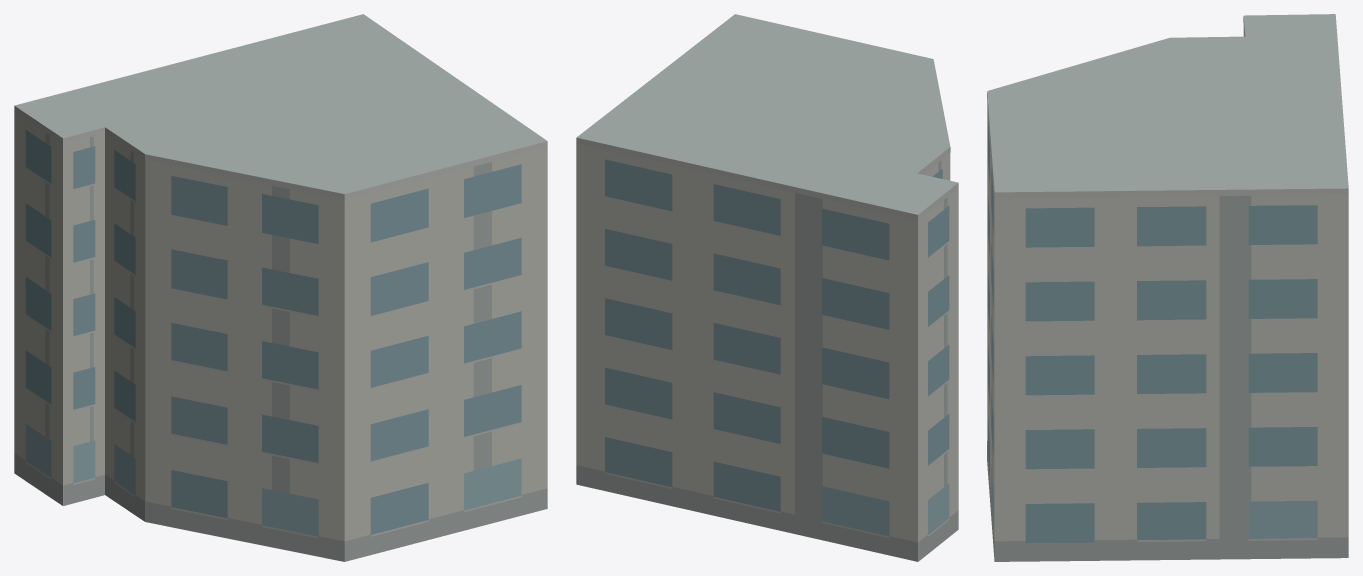
The model's file is survey-upis-32891658.glb.
The picture shows the model from 3 angles, left to right: view 1: azimuth 30°, elevation 25°; view 2: azimuth 150°, elevation 25°; view 3: azimuth 270°, elevation 25°; orthographic projection. The views are drawn at different scales.
Parts seen in each view (by area): view 1: survey-upis-32891658.tmp; view 2: survey-upis-32891658.tmp; view 3: survey-upis-32891658.tmp.
Boxes of the visible parts, left/top/right/bottom form: survey-upis-32891658.tmp: left=14, top=14, right=547, bottom=561; survey-upis-32891658.tmp: left=576, top=14, right=958, bottom=561; survey-upis-32891658.tmp: left=987, top=14, right=1348, bottom=561.
Size of the model in its own units: 15.12 by 14.6 by 12.96.
